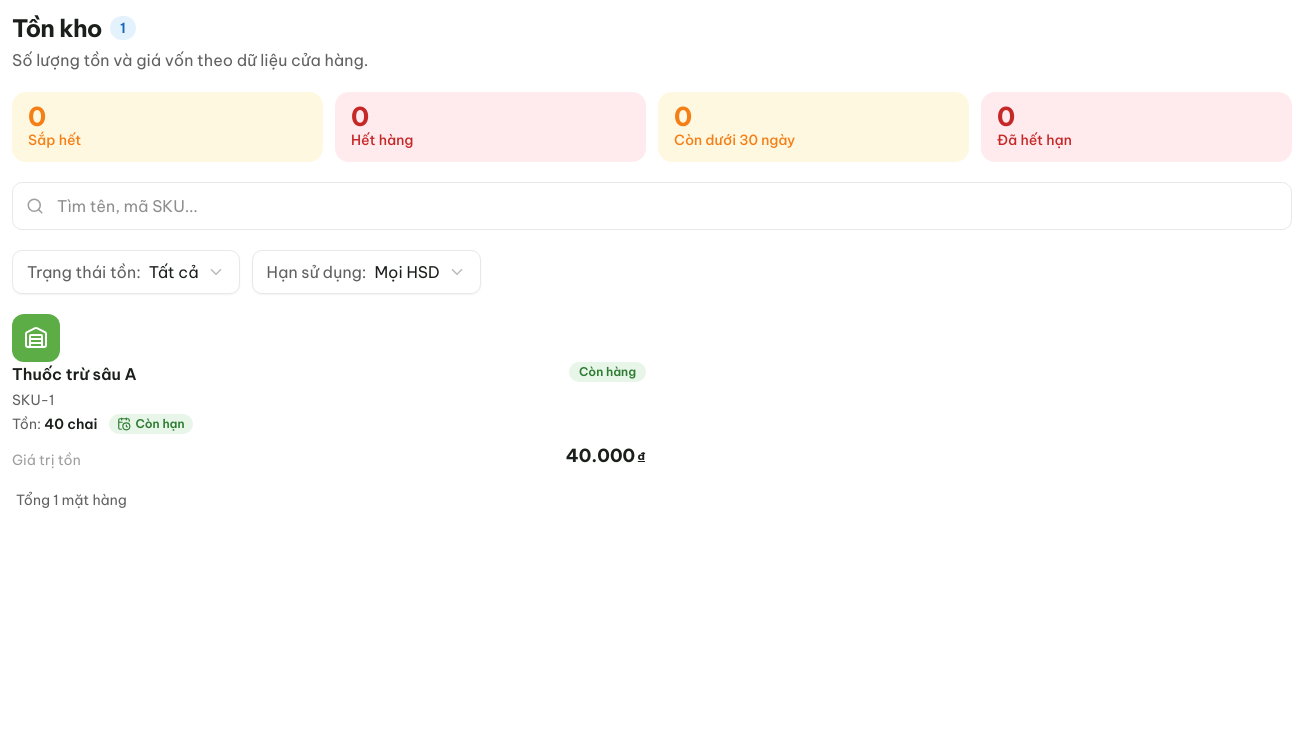
Test: InventoryList expiry tiers › shows the empty state when a tier filter matches nothing
Expected: the text "Còn hạn" is shown, [109,414,193,434]
Click the button "0 Đã hết hạn": (1034,140) [981,92,1292,162]
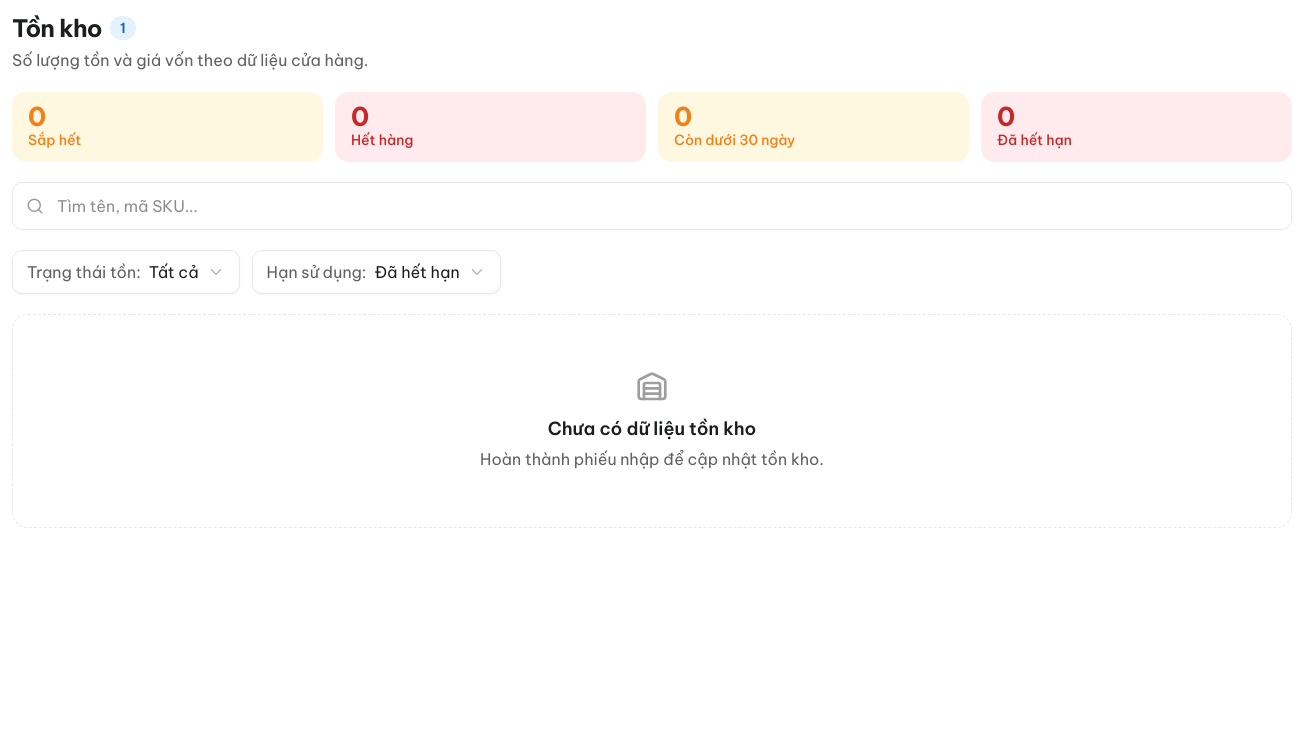
Result: the heading "Chưa có dữ liệu tồn kho" is shown at [548,417,756,440]
